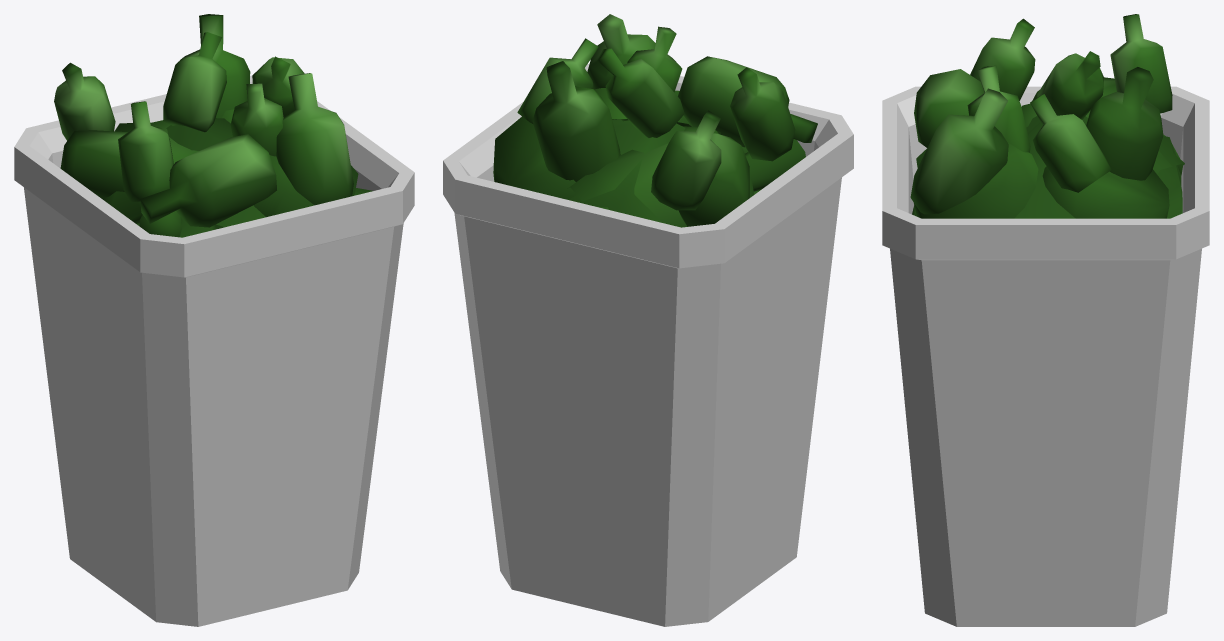
File: SM_TrashBIn_Green.fbx
The picture shows the model from 3 angles, left to right: view 1: azimuth 30°, elevation 25°; view 2: azimuth 150°, elevation 25°; view 3: azimuth 270°, elevation 25°; orthographic projection. The views are drawn at different scales.
Visible parts, largest first — view 1: SM_Bin_Green, SM_Trash_Green; view 2: SM_Bin_Green, SM_Trash_Green; view 3: SM_Bin_Green, SM_Trash_Green.
Part boxes in pixels (<box>): SM_Bin_Green: <box>14,75,414,626</box>; SM_Trash_Green: <box>54,14,372,237</box>; SM_Bin_Green: <box>443,64,853,626</box>; SM_Trash_Green: <box>493,14,817,227</box>; SM_Bin_Green: <box>882,86,1209,626</box>; SM_Trash_Green: <box>910,14,1184,218</box>.
Size of the model in its own units: 71.13 by 128 by 71.13.
